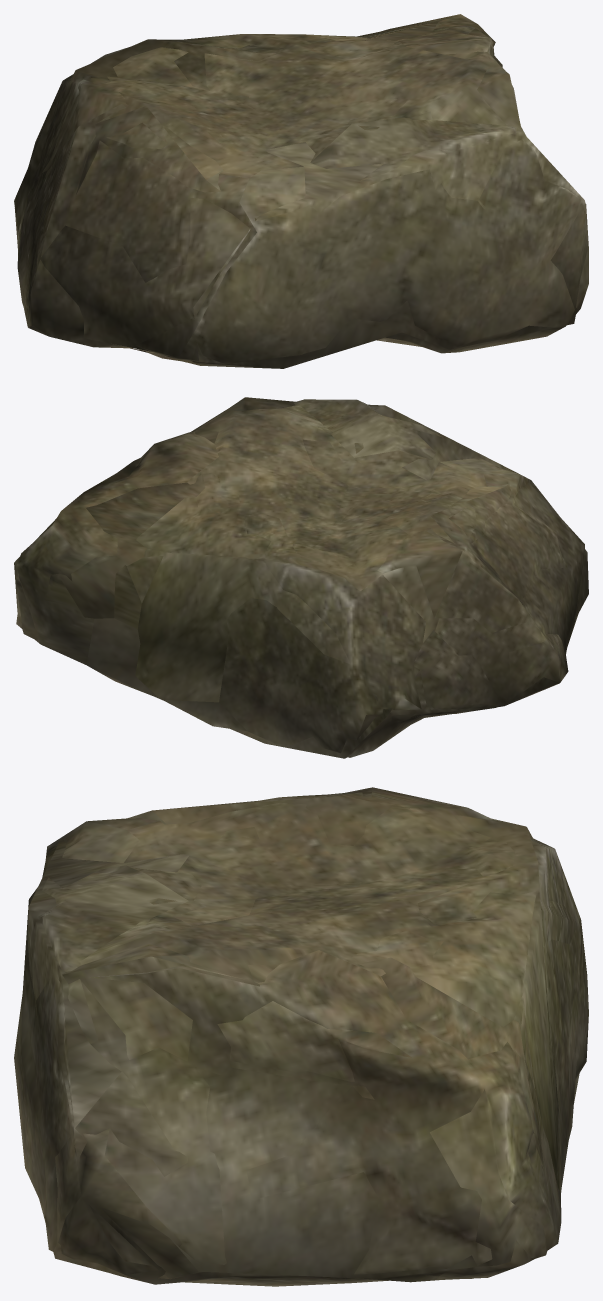
File: rock_02.glb
The picture shows the model from 3 angles, top to bottom: view 1: azimuth 30°, elevation 25°; view 2: azimuth 150°, elevation 25°; view 3: azimuth 270°, elevation 25°; orthographic projection. The views are drawn at different scales.
Visible parts, largest first — view 1: Rock_02_LOD2, Rock_02_LOD3; view 2: Rock_02_LOD2, Rock_02_LOD3; view 3: Rock_02_LOD2, Rock_02_LOD3.
Boxes of the visible parts, bbox=[...] form: Rock_02_LOD2: bbox=[14, 14, 588, 364]; Rock_02_LOD3: bbox=[14, 19, 587, 368]; Rock_02_LOD2: bbox=[16, 399, 588, 757]; Rock_02_LOD3: bbox=[14, 397, 585, 758]; Rock_02_LOD2: bbox=[14, 787, 588, 1286]; Rock_02_LOD3: bbox=[27, 792, 579, 1279].
Bounding box in the file's own units: 2.52 × 1.11 × 1.79.
1 material, 1 textured.
